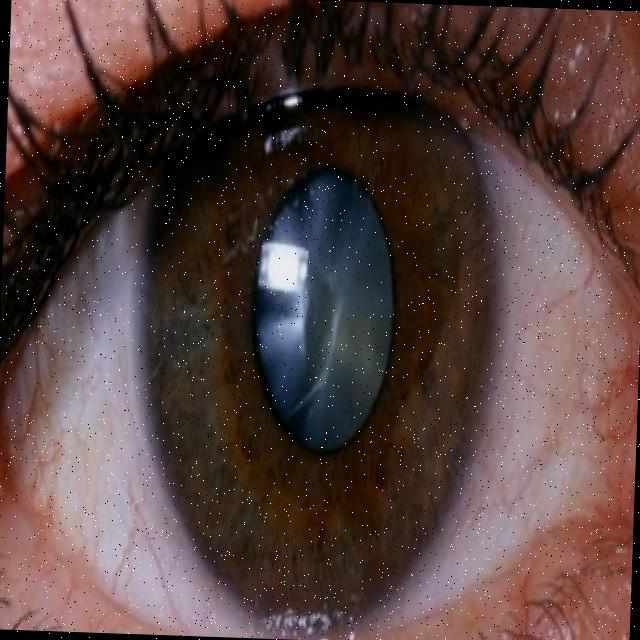Cataract: (160, 119, 487, 554)
